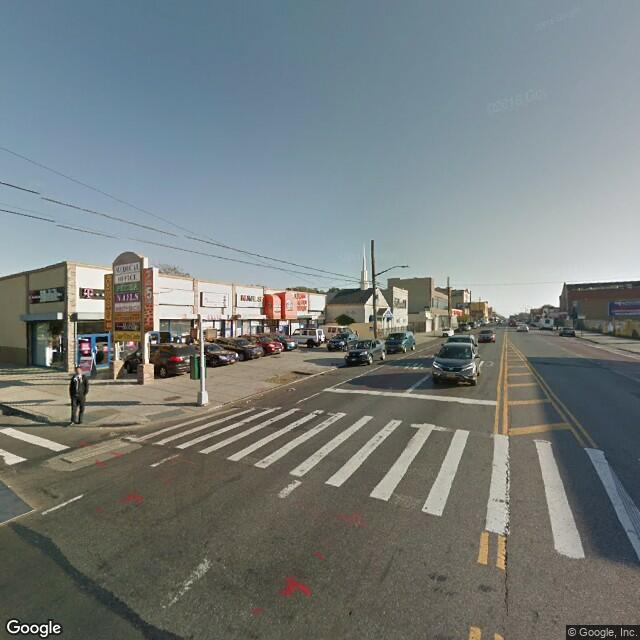litter: (286, 385, 297, 392)
